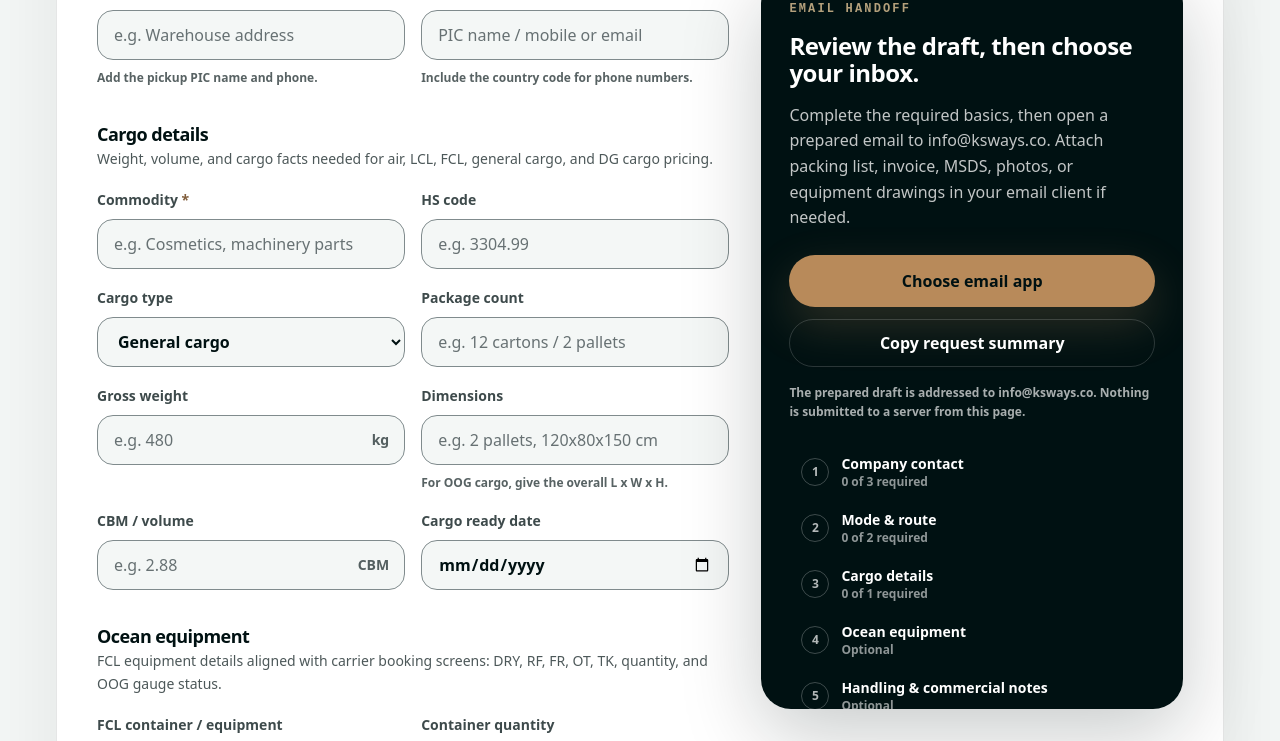
QuoteForm interactions › highlights DG guidance when DG cargo is selected
(page scrolled)
Check: the text "DG cargo selected" is not shown
Select "DG cargo" in the dropdown named "cargoNature" at (251, 342), box x1=97 y1=317 x2=405 y2=367
(page scrolled)
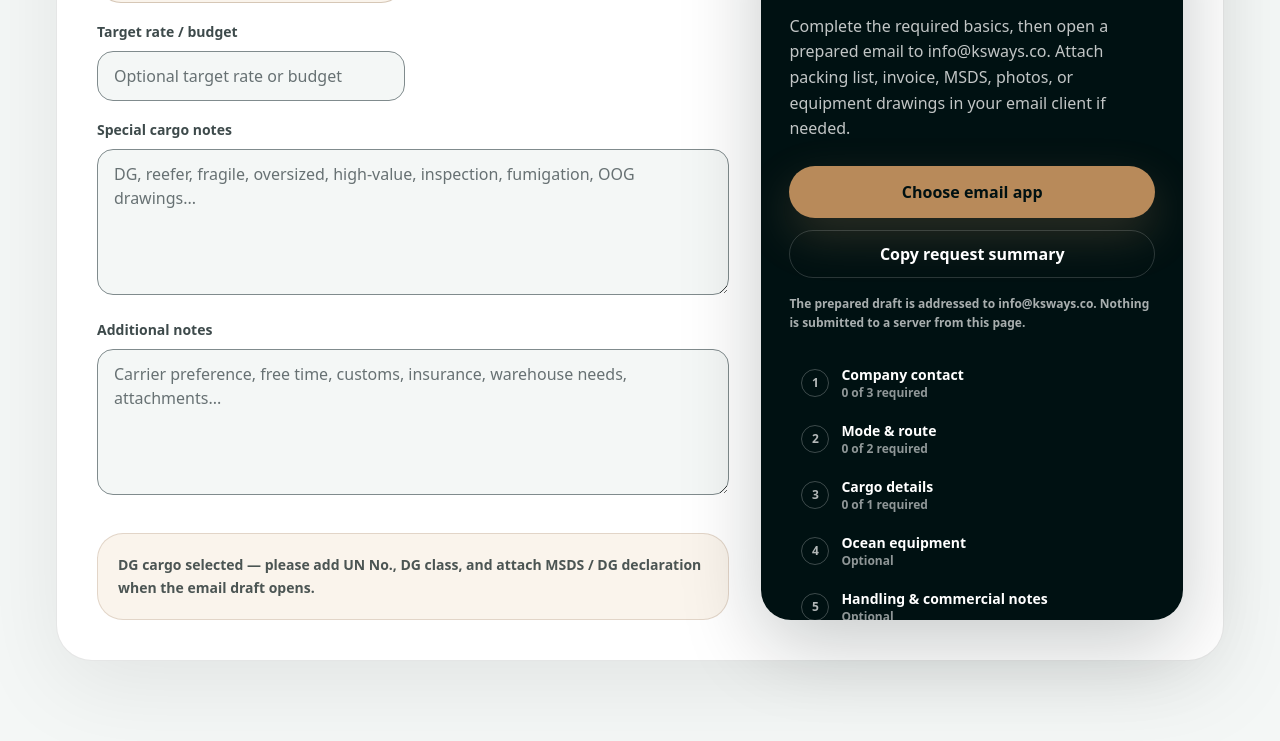
Check: the text "DG cargo selected" is shown, box x1=118 y1=555 x2=701 y2=597
